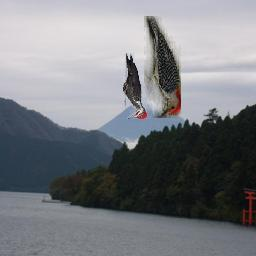Woodpecker: (145, 16, 182, 118), (123, 53, 147, 119)
